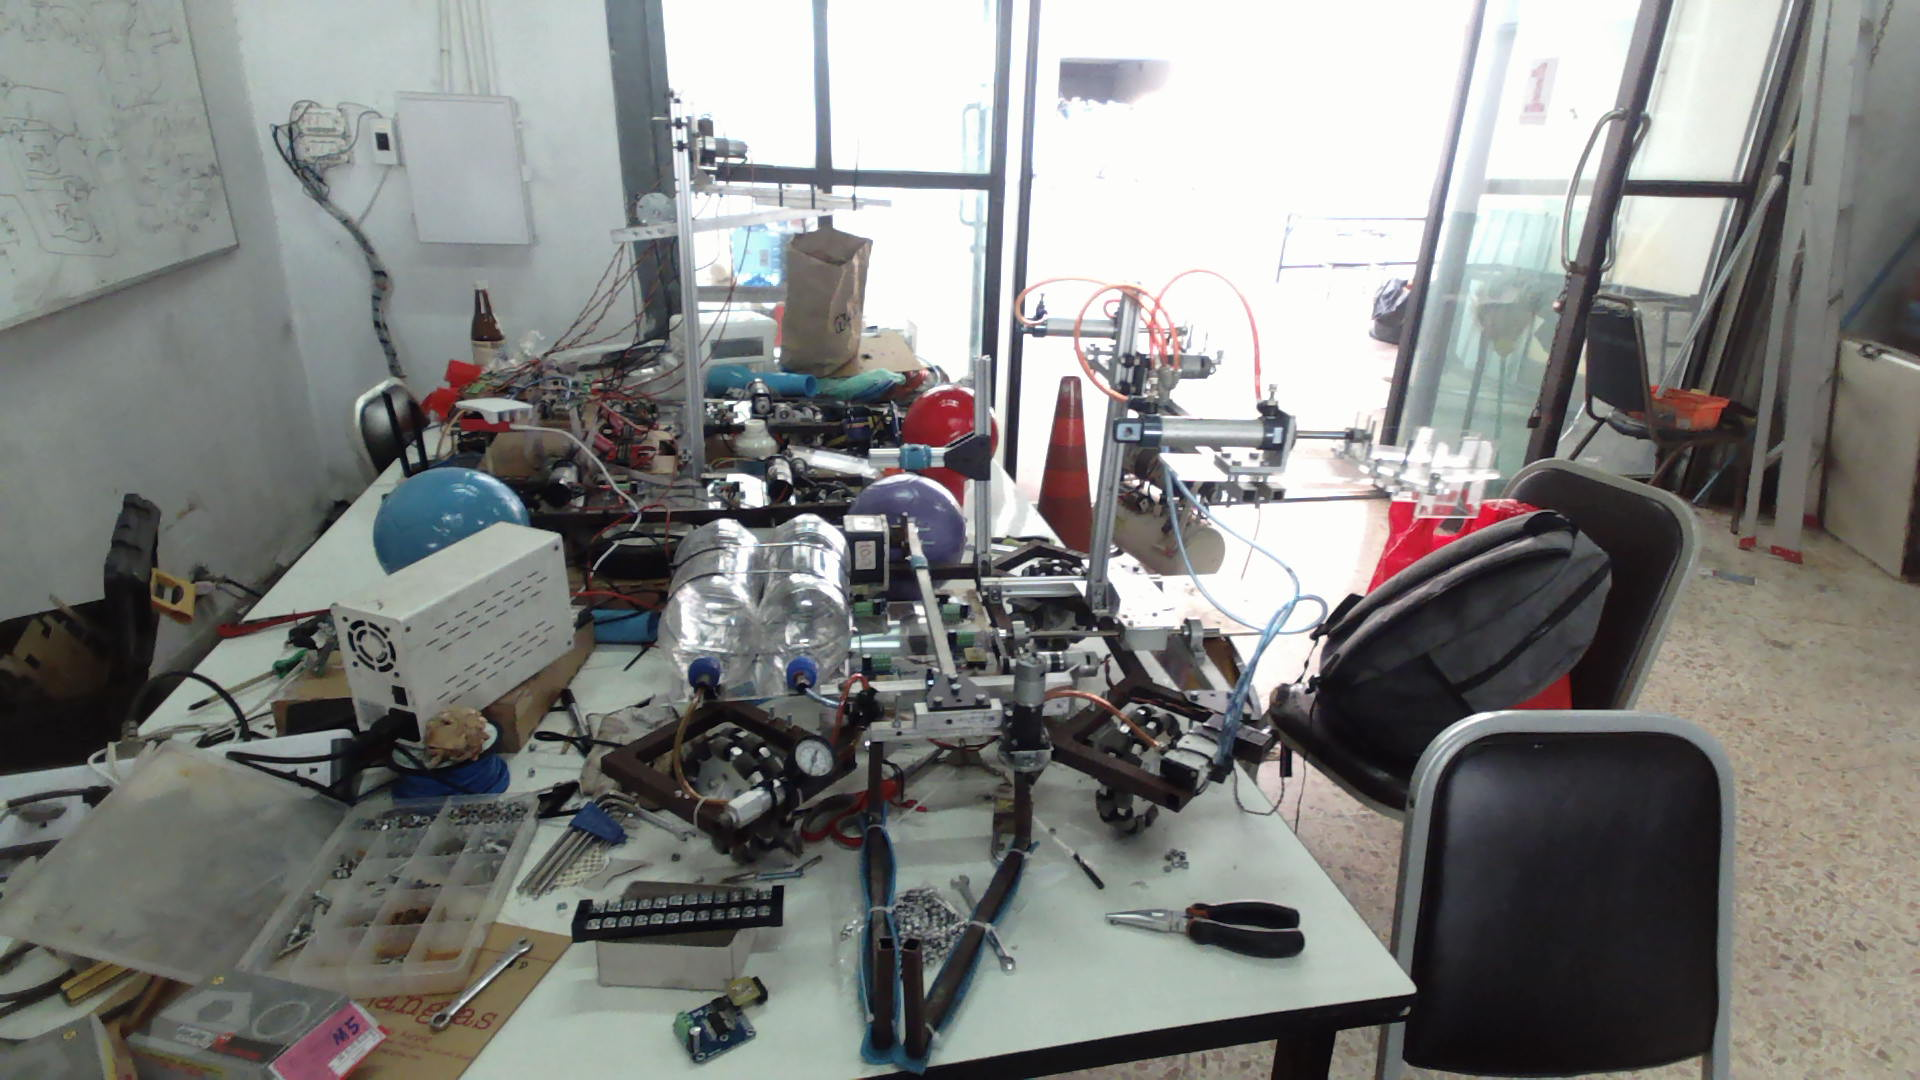Blue ball: (371, 464, 531, 545)
Purple ball: (847, 473, 967, 524)
Red ball: (901, 386, 996, 448)
